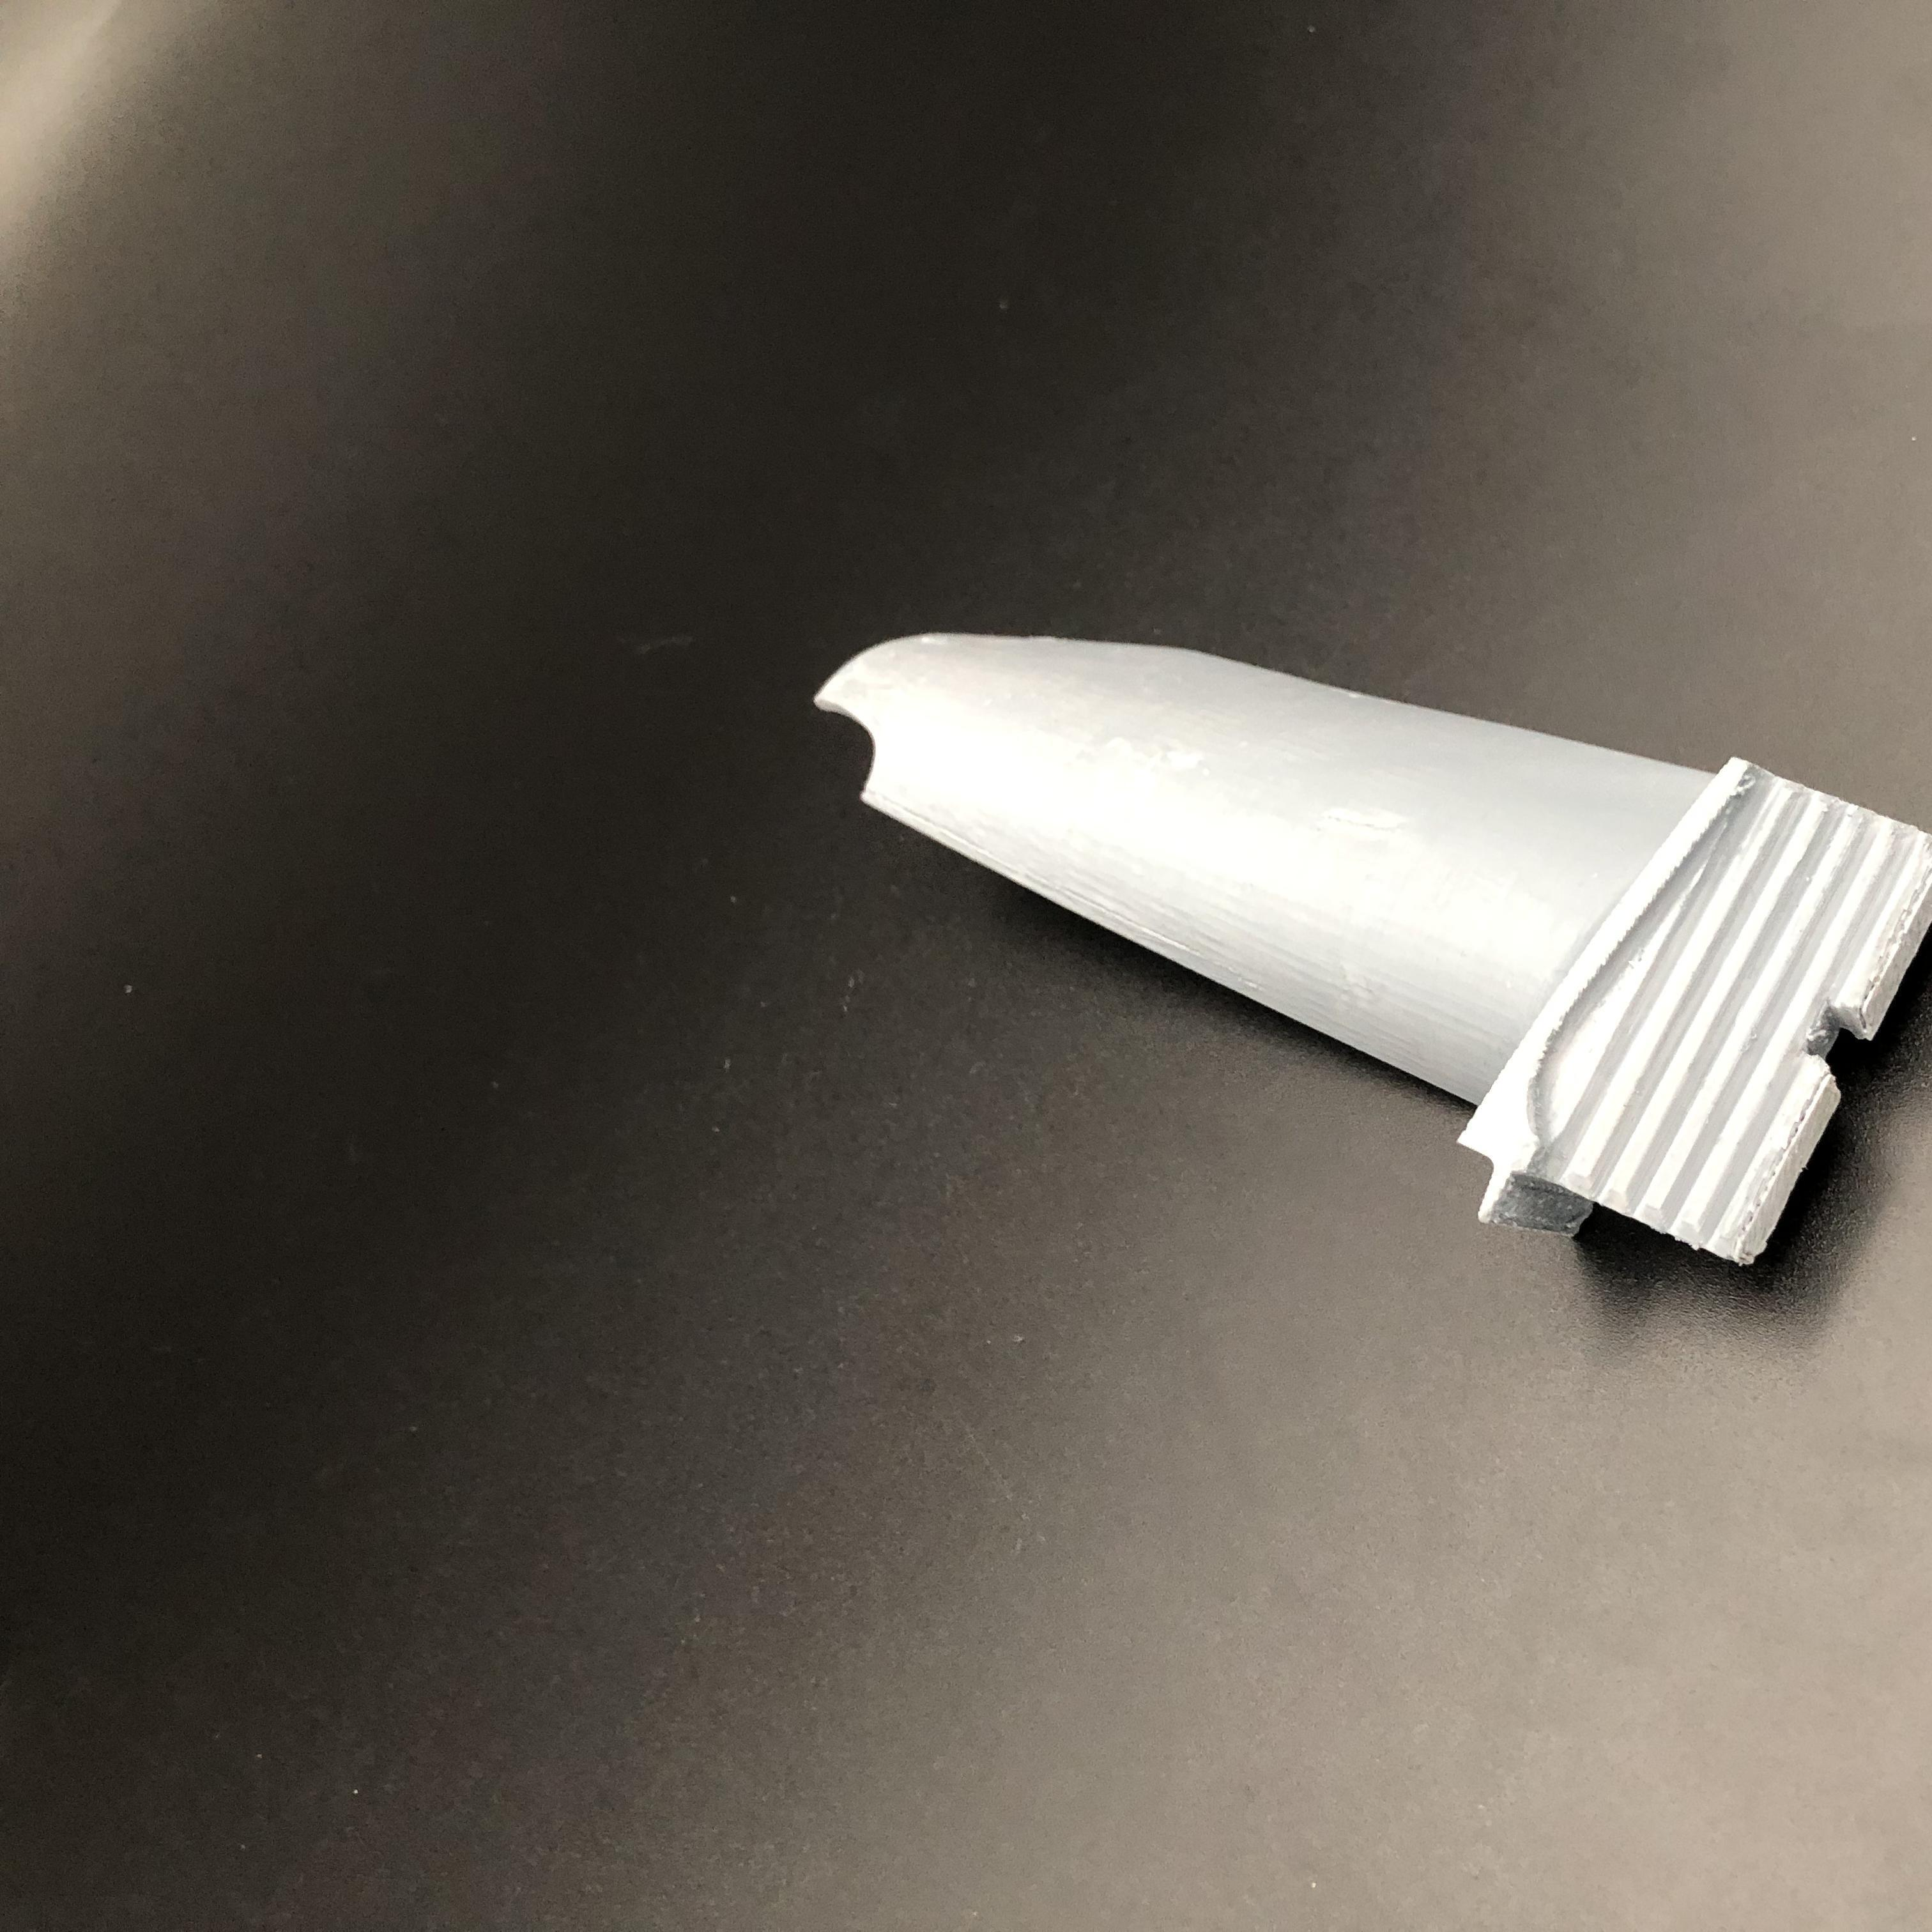fracture: (807, 681, 934, 812)
